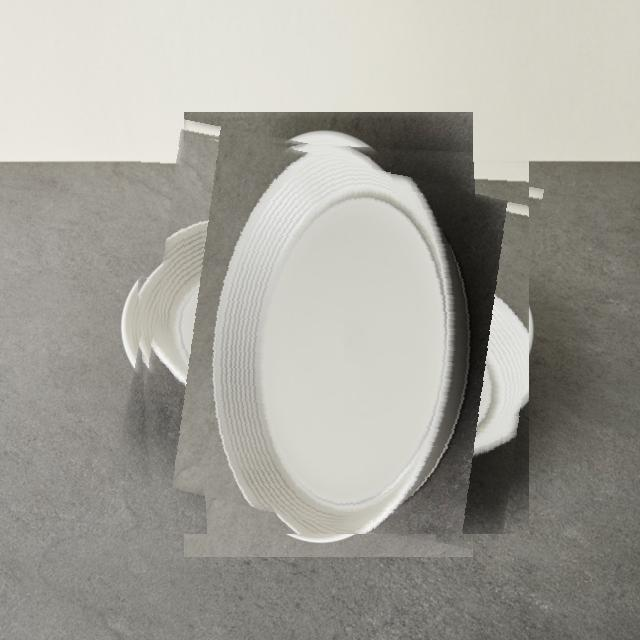recyclable: (129, 135, 529, 534)
